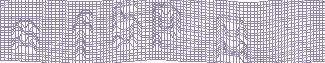5: (109, 1, 142, 52)
B: (214, 13, 248, 63)
P: (149, 2, 182, 54)
f: (71, 9, 96, 62)
s: (9, 19, 40, 57)
